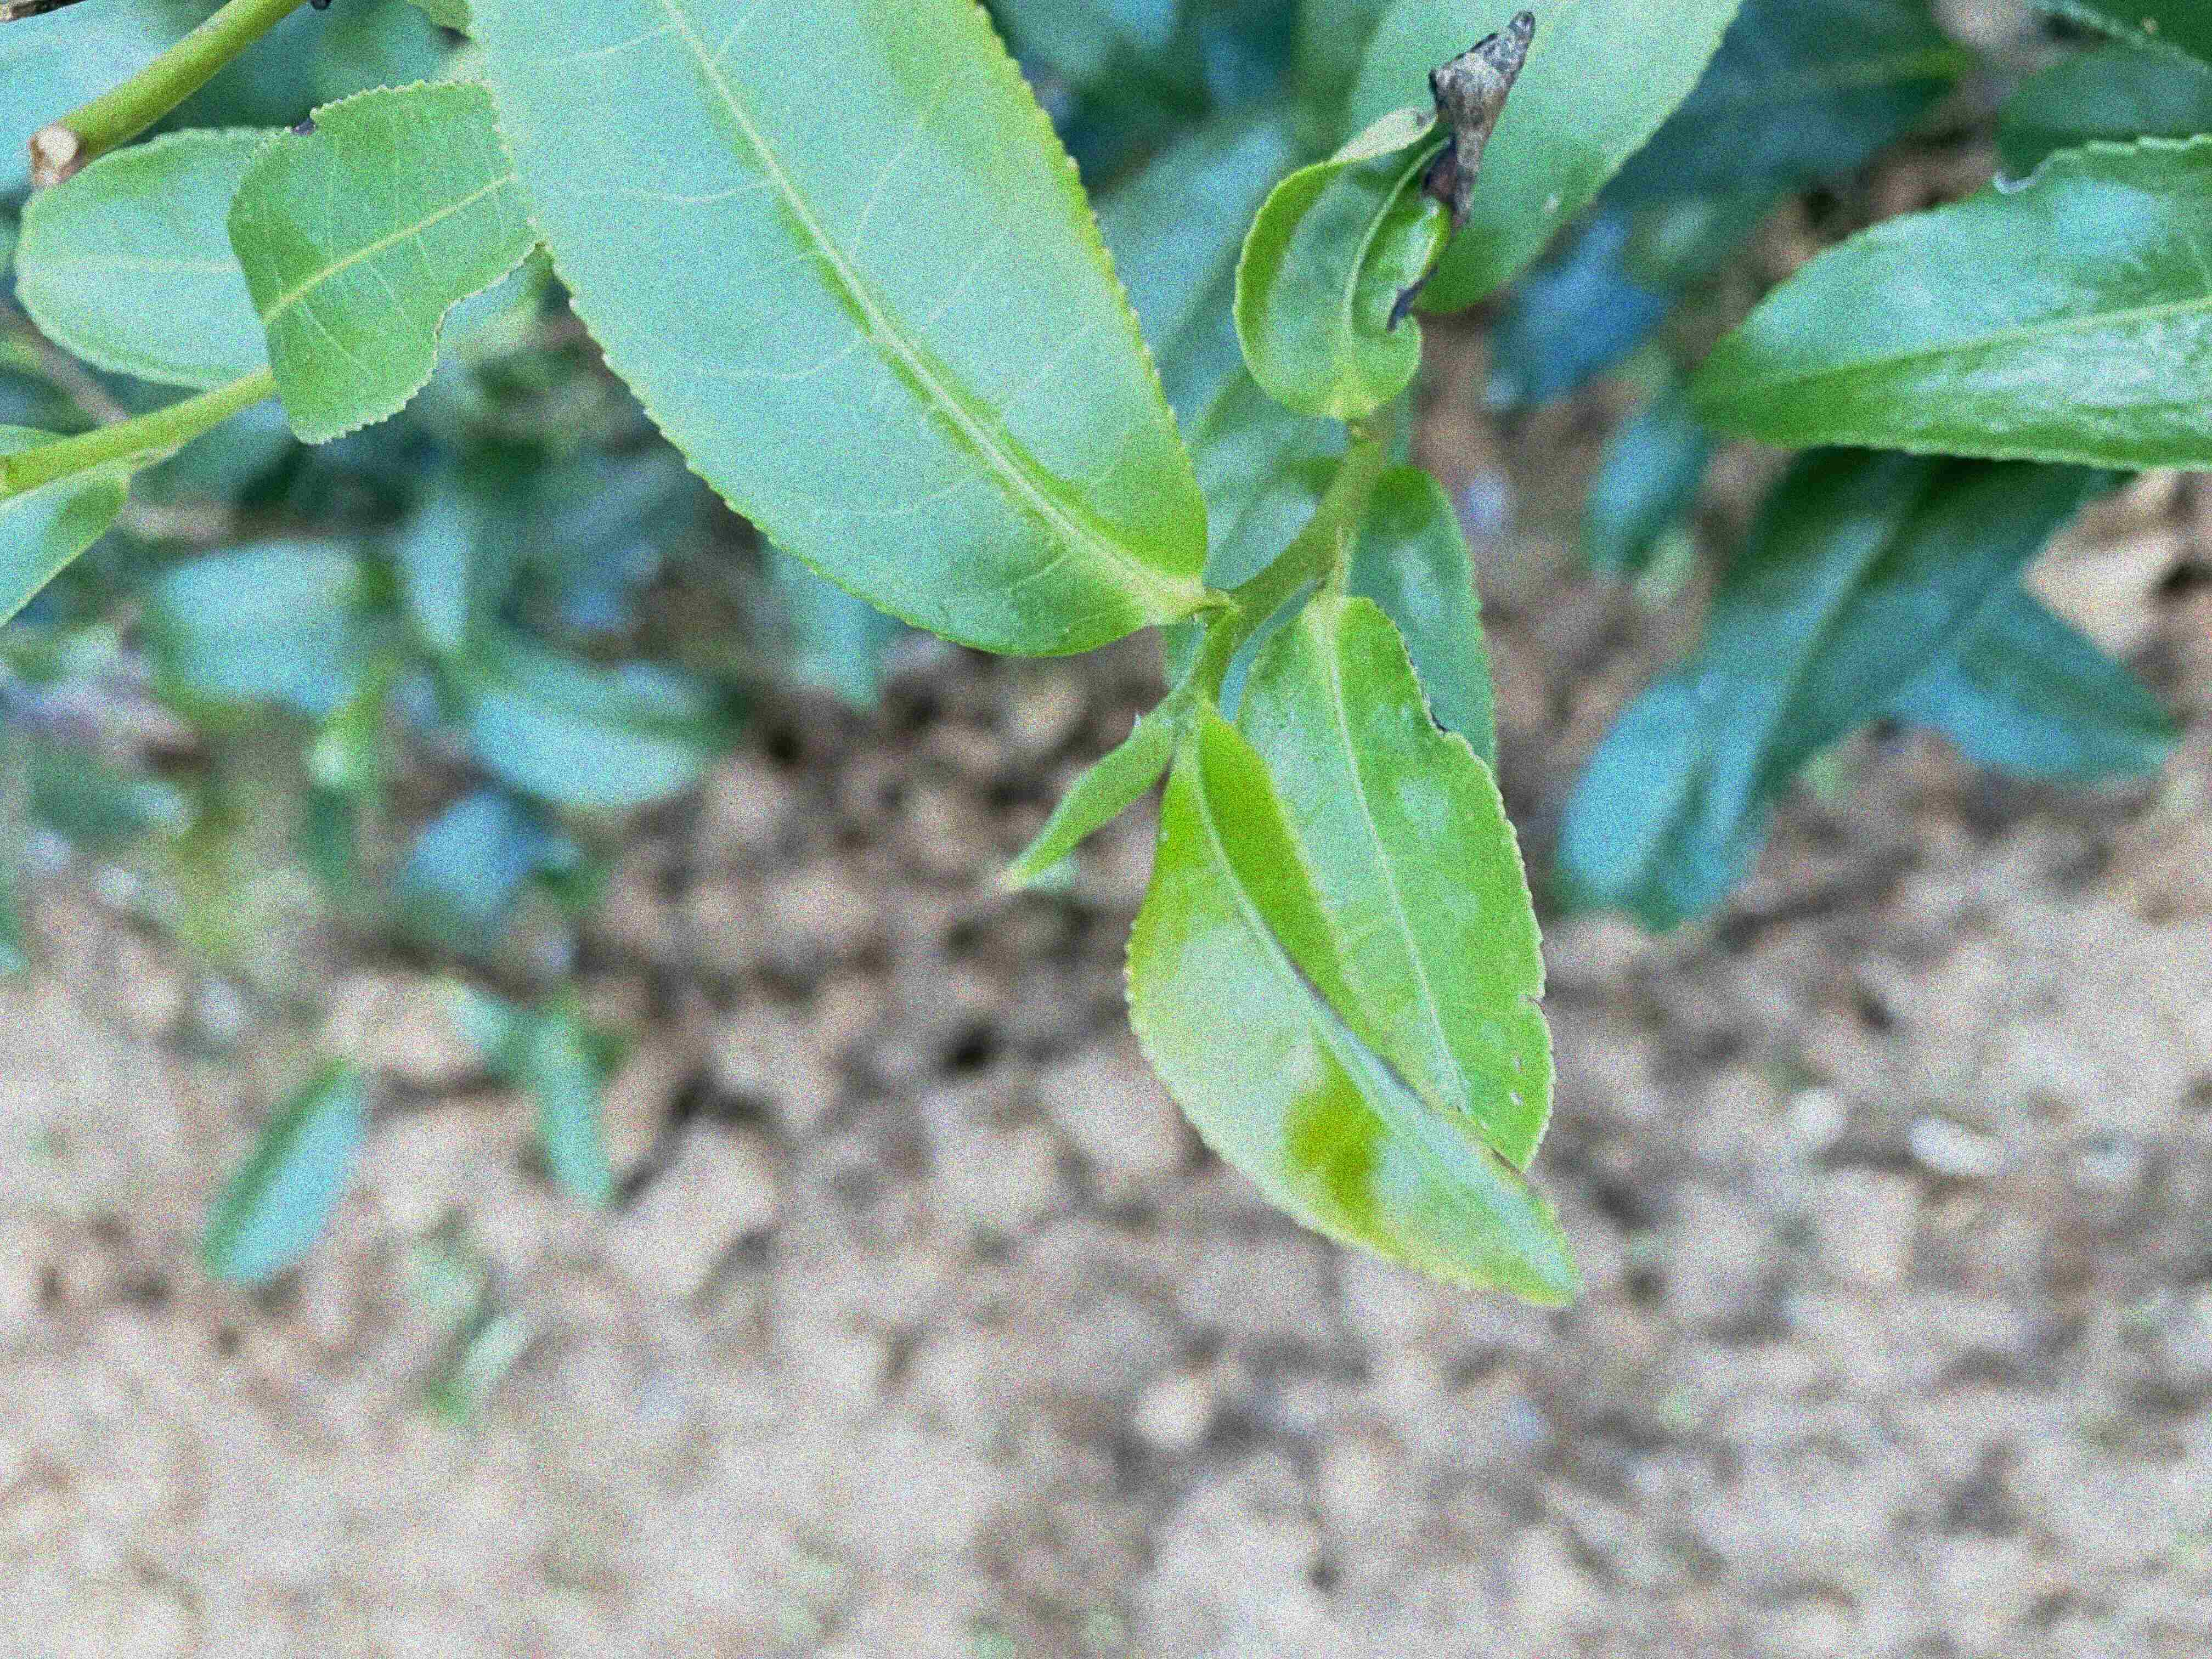healthy: (463, 0, 1211, 662)
tanju_high: (1230, 12, 1538, 422)
tanju_low: (1240, 587, 1557, 1173), (226, 78, 519, 446)
